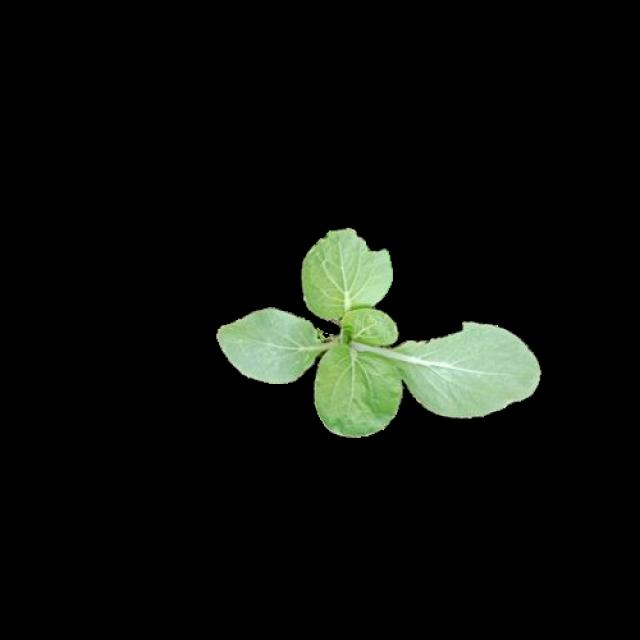healthy: (216, 226, 543, 434)
not-mature: (216, 229, 543, 437)
